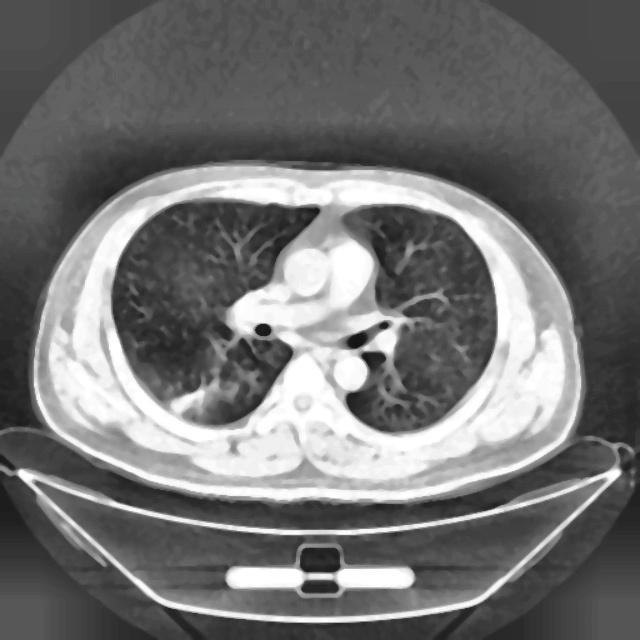covid: (29, 157, 585, 505)
